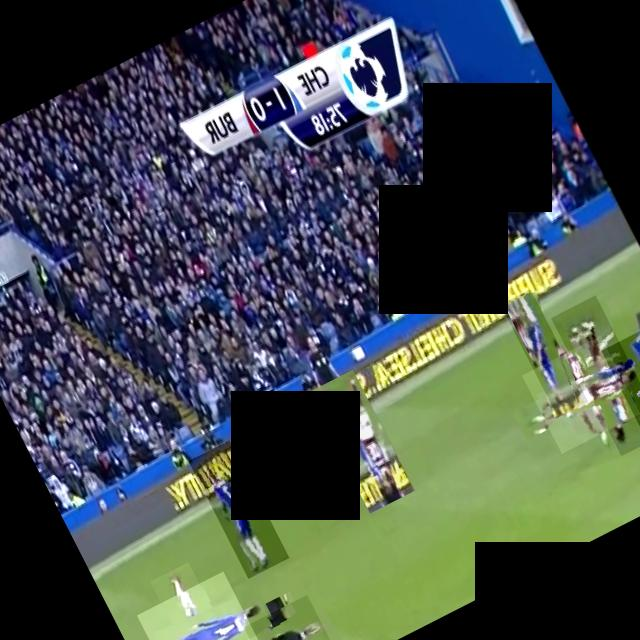referee: (243, 594, 338, 640)
soccer-player: (306, 368, 414, 512), (550, 294, 640, 455), (521, 335, 639, 453), (188, 440, 288, 578), (499, 288, 587, 417), (135, 570, 265, 640), (600, 312, 640, 438)
